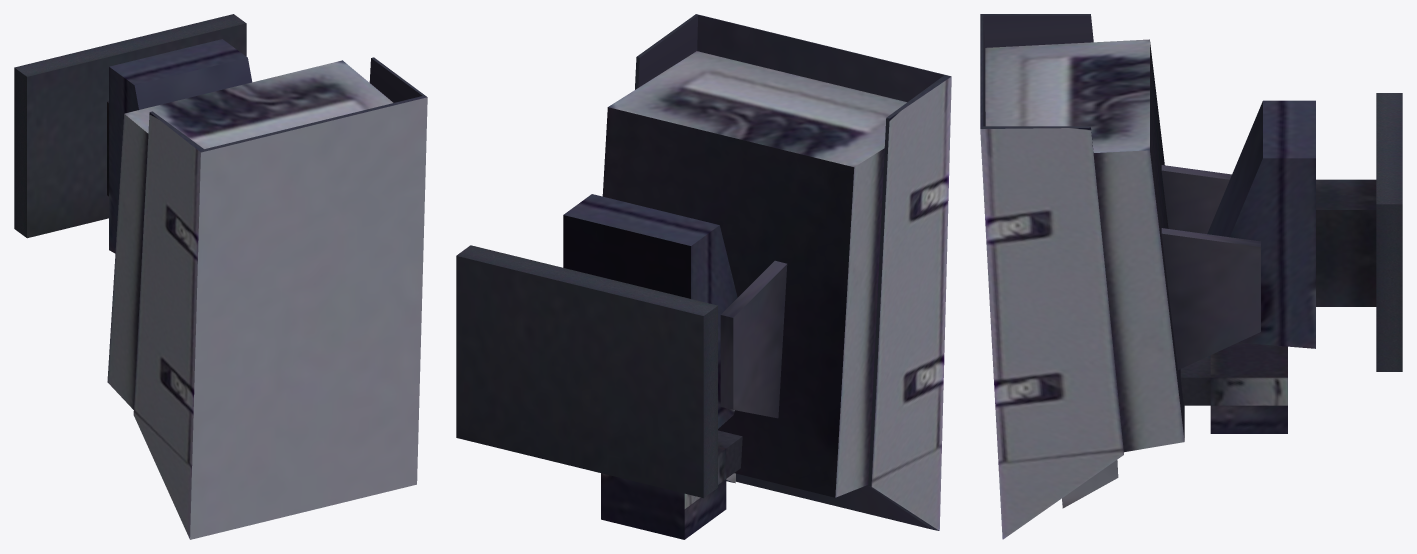
The model's file is RTF3301220722_0012L_02_normalization.obj.
The picture shows the model from 3 angles, left to right: view 1: azimuth 30°, elevation 25°; view 2: azimuth 150°, elevation 25°; view 3: azimuth 270°, elevation 25°; orthographic projection. The views are drawn at different scales.
Parts seen in each view (by area): view 1: RTF3301220722_0012S_02; view 2: RTF3301220722_0012S_02; view 3: RTF3301220722_0012S_02.
Boxes of the visible parts, x1,y1,x2,y2 form: RTF3301220722_0012S_02: (14, 14, 427, 539); RTF3301220722_0012S_02: (456, 14, 951, 539); RTF3301220722_0012S_02: (980, 14, 1402, 539).
Size of the model in its own units: 0.4154 by 0.6661 by 0.6194.
1 material, 1 textured.
